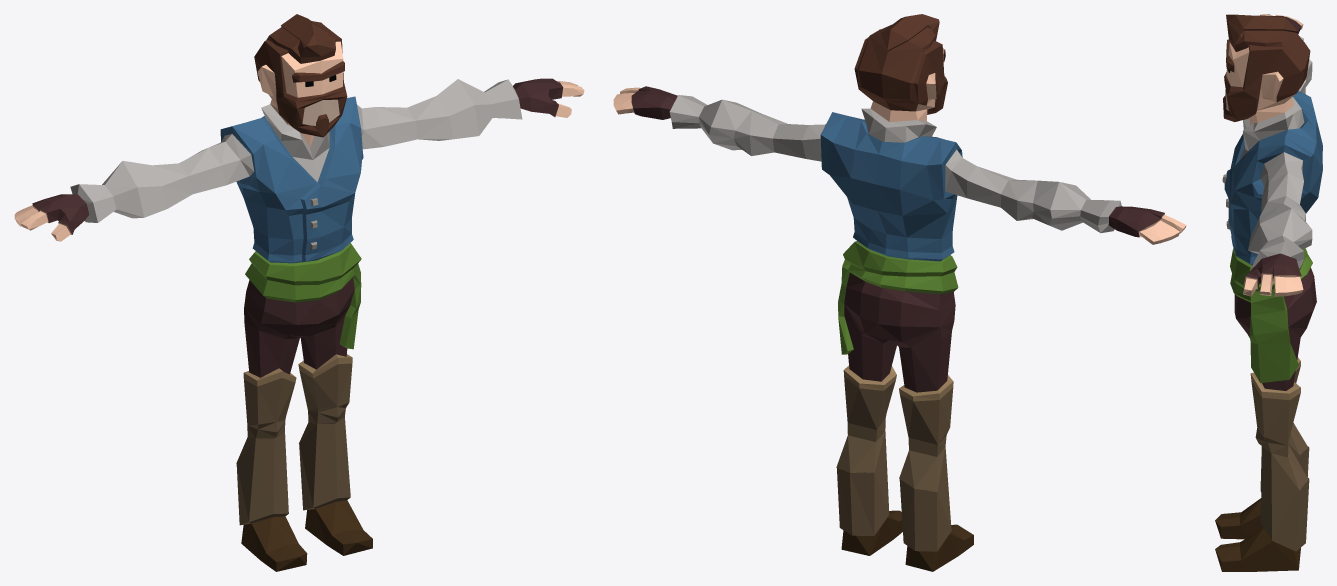
Rendered from aldeano.fbx.
3 views of the same model, side by side, from view 1: azimuth 30°, elevation 25°; view 2: azimuth 150°, elevation 25°; view 3: azimuth 270°, elevation 25° (orthographic).
Visible parts, largest first — view 1: Character_Gentleman_01; view 2: Character_Gentleman_01; view 3: Character_Gentleman_01.
Boxes of the visible parts, left/top/right/bottom form: Character_Gentleman_01: left=14, top=14, right=584, bottom=571; Character_Gentleman_01: left=613, top=14, right=1186, bottom=571; Character_Gentleman_01: left=1215, top=14, right=1322, bottom=571.
Bounding box in the file's own units: 80.61 × 13.22 × 72.12.
Materials: 1 (1 with a texture image).
